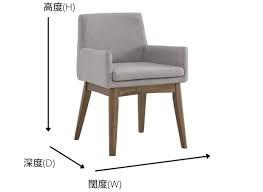chair: (66, 11, 196, 152)
